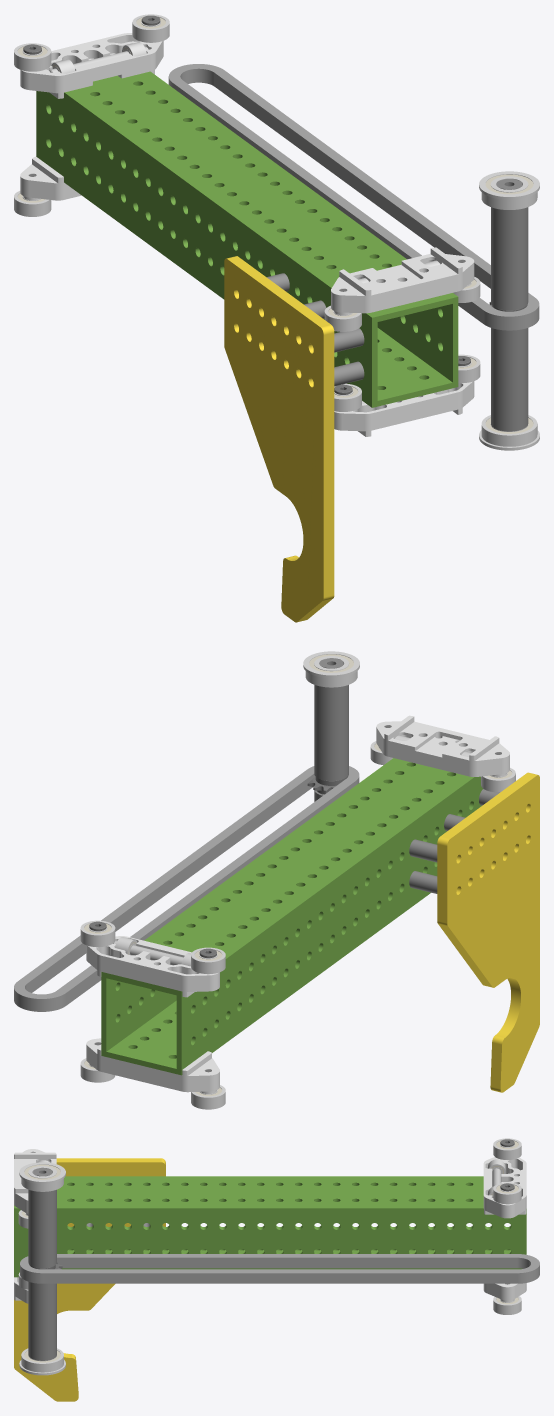
3 renders of one model, top to bottom at view 1: azimuth 30°, elevation 25°; view 2: azimuth 150°, elevation 25°; view 3: azimuth 270°, elevation 25°, orthographic. The views are drawn at different scales.
Parts seen in each view (by area): view 1: Tube 2"x2"x13.5", Part 4, WCP-0897-001 Rev1 (×4), 112 links #25 chain, Part 7 (×2), 1/2" Rounded Hex (13.75mm) ID Bearing (1.125" OD, 0.313" WD, (×2), 0.25" ID Bearing (0.75" OD, 0.281" WD, Shielded) (×2); view 2: Tube 2"x2"x13.5", Part 4, WCP-0897-001 Rev1 (×3), 112 links #25 chain, Part 7, 0.25" ID Bearing (0.75" OD, 0.281" WD, Shielded) (×3), 1/2" Rounded Hex (13.75mm) ID Bearing (1.125" OD, 0.313" WD,; view 3: Tube 2"x2"x13.5", 112 links #25 chain, Part 4, Part 7 (×2), WCP-0897-001 Rev1 (×3), 1/2" Rounded Hex (13.75mm) ID Bearing (1.125" OD, 0.313" WD, (×2), 0.25" ID Bearing (0.75" OD, 0.281" WD, Shielded) (×3).
Boxes of the visible parts, <box> form: Tube 2"x2"x13.5": <box>36,71,458,407</box>; Part 4: <box>224,256,334,622</box>; WCP-0897-001 Rev1 (×4): <box>20,33,474,436</box>; 112 links #25 chain: <box>168,64,539,330</box>; Part 7 (×2): <box>491,207,528,431</box>; 1/2" Rounded Hex (13.75mm) ID Bearing (1.125" OD, 0.313" WD, (×2): <box>479,171,539,450</box>; 0.25" ID Bearing (0.75" OD, 0.281" WD, Shielded) (×2): <box>14,14,169,71</box>; Tube 2"x2"x13.5": <box>101,758,483,1075</box>; Part 4: <box>437,772,539,1092</box>; WCP-0897-001 Rev1 (×3): <box>86,715,509,1093</box>; 112 links #25 chain: <box>14,766,359,1011</box>; Part 7: <box>314,685,348,780</box>; 0.25" ID Bearing (0.75" OD, 0.281" WD, Shielded) (×3): <box>80,920,225,1109</box>; 1/2" Rounded Hex (13.75mm) ID Bearing (1.125" OD, 0.313" WD,: <box>303,651,359,687</box>; Tube 2"x2"x13.5": <box>14,1176,526,1277</box>; 112 links #25 chain: <box>20,1254,539,1283</box>; Part 4: <box>14,1158,165,1401</box>; Part 7 (×2): <box>28,1189,56,1360</box>; WCP-0897-001 Rev1 (×3): <box>14,1149,526,1302</box>; 1/2" Rounded Hex (13.75mm) ID Bearing (1.125" OD, 0.313" WD, (×2): <box>19,1162,65,1375</box>; 0.25" ID Bearing (0.75" OD, 0.281" WD, Shielded) (×3): <box>493,1138,521,1314</box>.
Bounding box in the file's own units: 0.1362 × 0.2227 × 0.3519.
